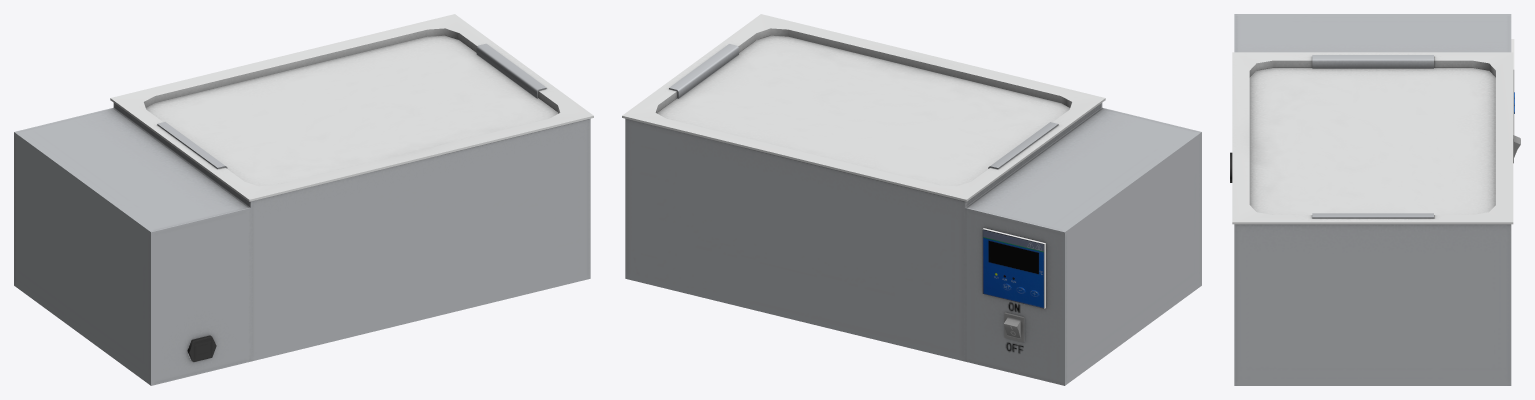
File: hengwenshuiyuguo.fbx
3 renders of one model, left to right at view 1: azimuth 30°, elevation 25°; view 2: azimuth 150°, elevation 25°; view 3: azimuth 270°, elevation 25°, orthographic.
Parts seen in each view (by area): view 1: hengwenshuiyuguo17, hengwenshuiyuguo14, hengwenshuiyuguo16; view 2: hengwenshuiyuguo17, hengwenshuiyuguo14, hengwenshuiyuguo16; view 3: hengwenshuiyuguo17, hengwenshuiyuguo14, hengwenshuiyuguo16.
Boxes of the visible parts, x1,y1,x2,y2 form: hengwenshuiyuguo17: (14, 103, 590, 385); hengwenshuiyuguo14: (146, 35, 558, 186); hengwenshuiyuguo16: (110, 14, 593, 201); hengwenshuiyuguo17: (625, 103, 1201, 385); hengwenshuiyuguo14: (657, 35, 1069, 186); hengwenshuiyuguo16: (622, 14, 1105, 201); hengwenshuiyuguo17: (1230, 14, 1514, 385); hengwenshuiyuguo14: (1249, 55, 1495, 218); hengwenshuiyuguo16: (1232, 52, 1513, 224).
Bounding box in the file's own units: 55.66 × 19.77 × 31.39.
Materials: 2 (2 with a texture image).
